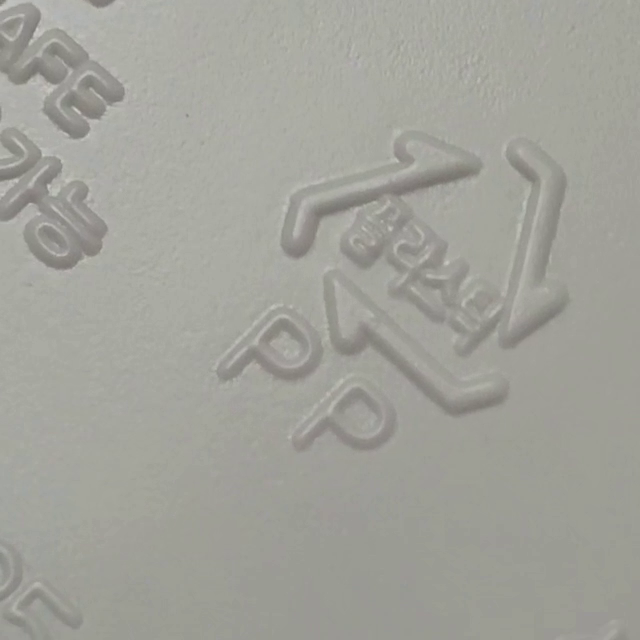Plastic: (278, 129, 570, 414)
